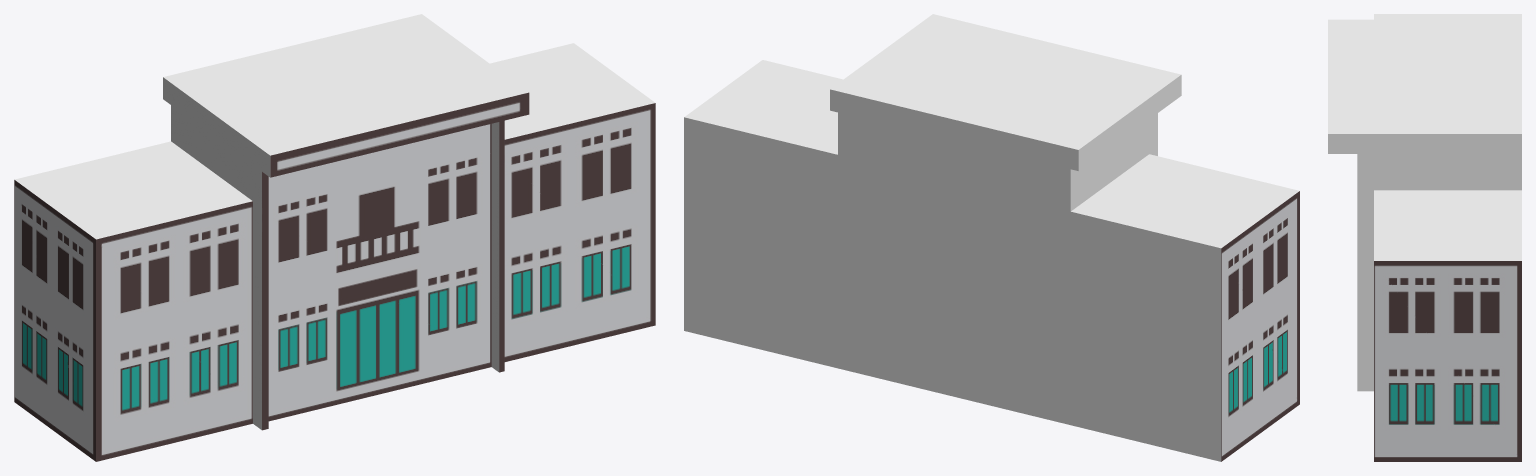
Rendered from Spa.fbx.
3 renders of one model, left to right at view 1: azimuth 30°, elevation 25°; view 2: azimuth 150°, elevation 25°; view 3: azimuth 270°, elevation 25°, orthographic. The views are drawn at different scales.
Visible parts, largest first — view 1: polySurface1; view 2: polySurface1; view 3: polySurface1.
Boxes of the visible parts, x1,y1,x2,y2 form: polySurface1: (14, 14, 655, 461); polySurface1: (684, 14, 1299, 461); polySurface1: (1328, 14, 1521, 461).
Size of the model in its own units: 5.71 by 2.82 by 1.9.
